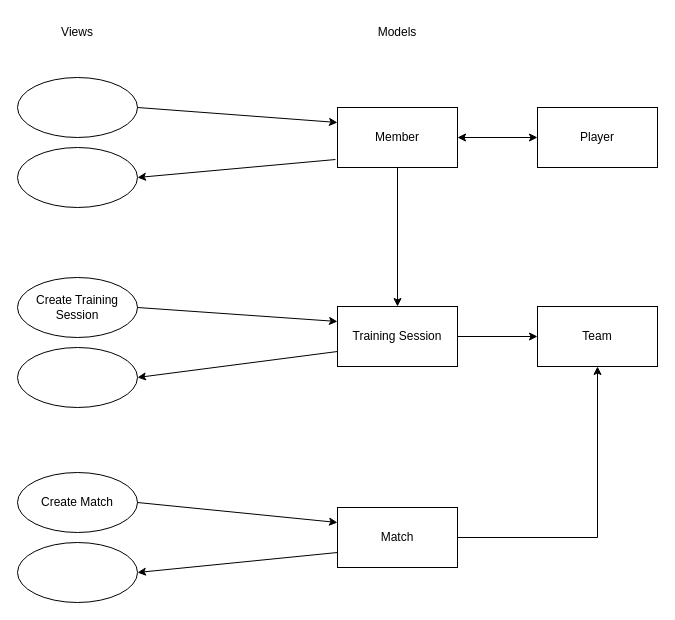
Some shapes in this 675 by 620 pixel diagram are drawn without their labels. The centre of each missing label's shape, as x and y in pixels:
Create Player: the point at 77,107
View Match: the point at 77,572
View Player: the point at 77,177
View Training Session: the point at 77,377
